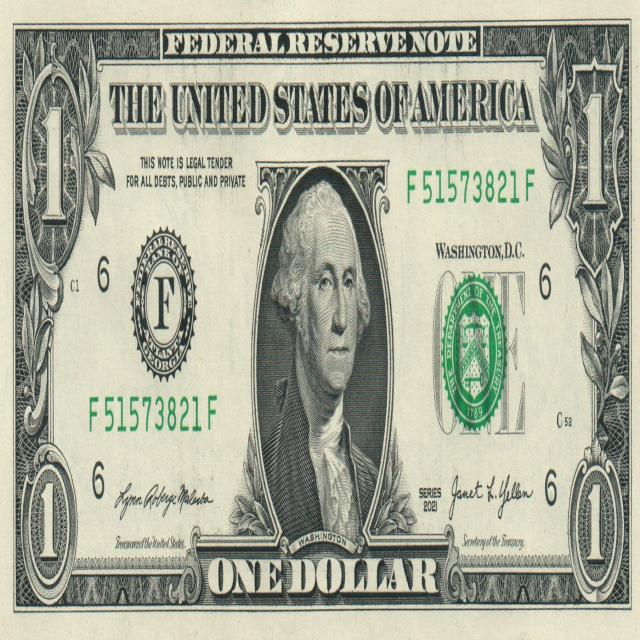SerialNumber: (90, 397, 202, 431), (422, 170, 520, 204)
